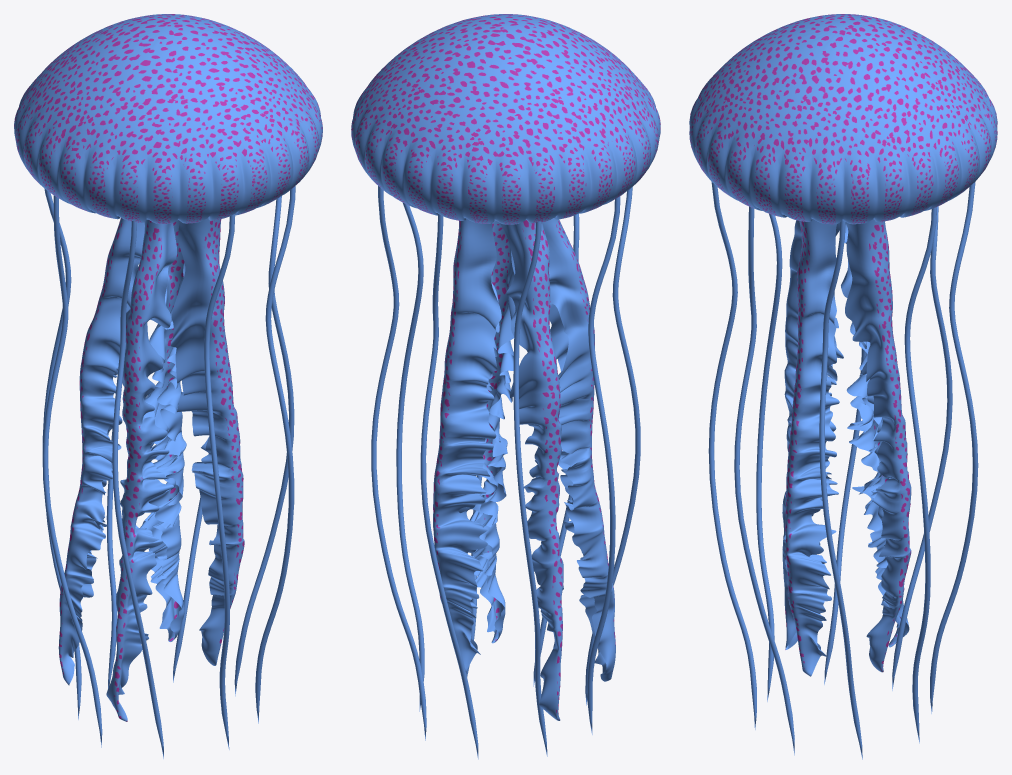
Rendered from Jellyfish2.fbx.
The picture shows the model from 3 angles, left to right: view 1: azimuth 30°, elevation 25°; view 2: azimuth 150°, elevation 25°; view 3: azimuth 270°, elevation 25°; orthographic projection.
Parts seen in each view (by area): view 1: Cylinder.001, BezierCurve.001; view 2: Cylinder.001, BezierCurve.001; view 3: Cylinder.001, BezierCurve.001.
Boxes of the visible parts, <box> form: Cylinder.001: <box>14,14,322,721</box>; BezierCurve.001: <box>42,186,295,758</box>; Cylinder.001: <box>351,14,660,720</box>; BezierCurve.001: <box>371,186,640,759</box>; Cylinder.001: <box>689,14,997,676</box>; BezierCurve.001: <box>708,182,978,759</box>.
Size of the model in its own units: 91.88 by 229 by 91.88.
Materials: 1 (1 with a texture image).
